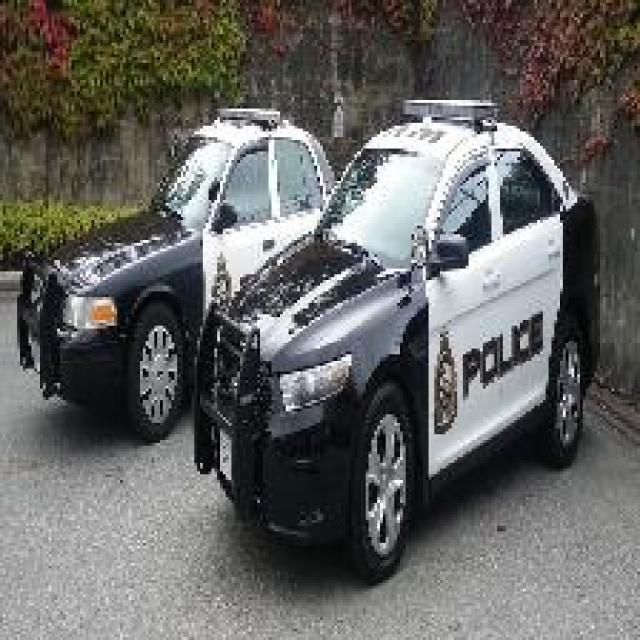Police-car: (189, 97, 600, 583), (14, 106, 337, 443)
